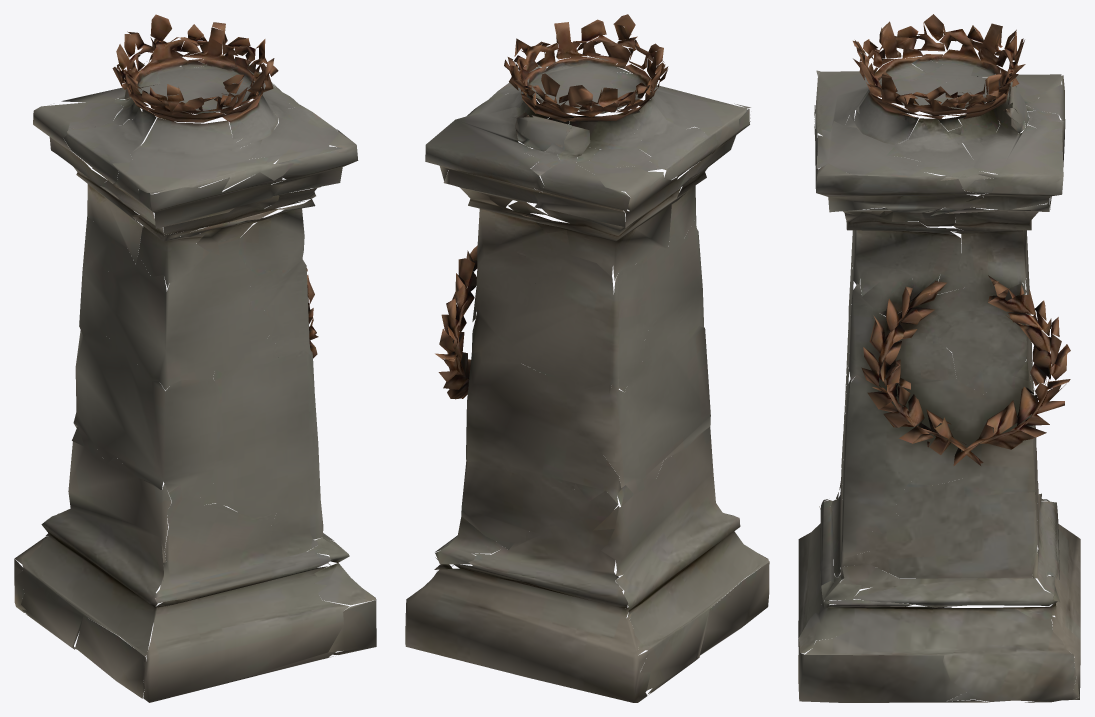
File: hf_pedestal.glb
3 views of the same model, side by side, from view 1: azimuth 30°, elevation 25°; view 2: azimuth 150°, elevation 25°; view 3: azimuth 270°, elevation 25° (orthographic). The views are drawn at different scales.
Parts seen in each view (by area): view 1: tripo_node_9ecc9e61-2fdd-40a4-be56-34e9107f5ebe; view 2: tripo_node_9ecc9e61-2fdd-40a4-be56-34e9107f5ebe; view 3: tripo_node_9ecc9e61-2fdd-40a4-be56-34e9107f5ebe.
Boxes of the visible parts, box(x1,y1,x2,y2) form: tripo_node_9ecc9e61-2fdd-40a4-be56-34e9107f5ebe: box(14, 14, 376, 702); tripo_node_9ecc9e61-2fdd-40a4-be56-34e9107f5ebe: box(405, 14, 769, 702); tripo_node_9ecc9e61-2fdd-40a4-be56-34e9107f5ebe: box(798, 14, 1080, 702).
Bounding box in the file's own units: 0.4205 × 1 × 0.4222.
1 material, 1 textured.
